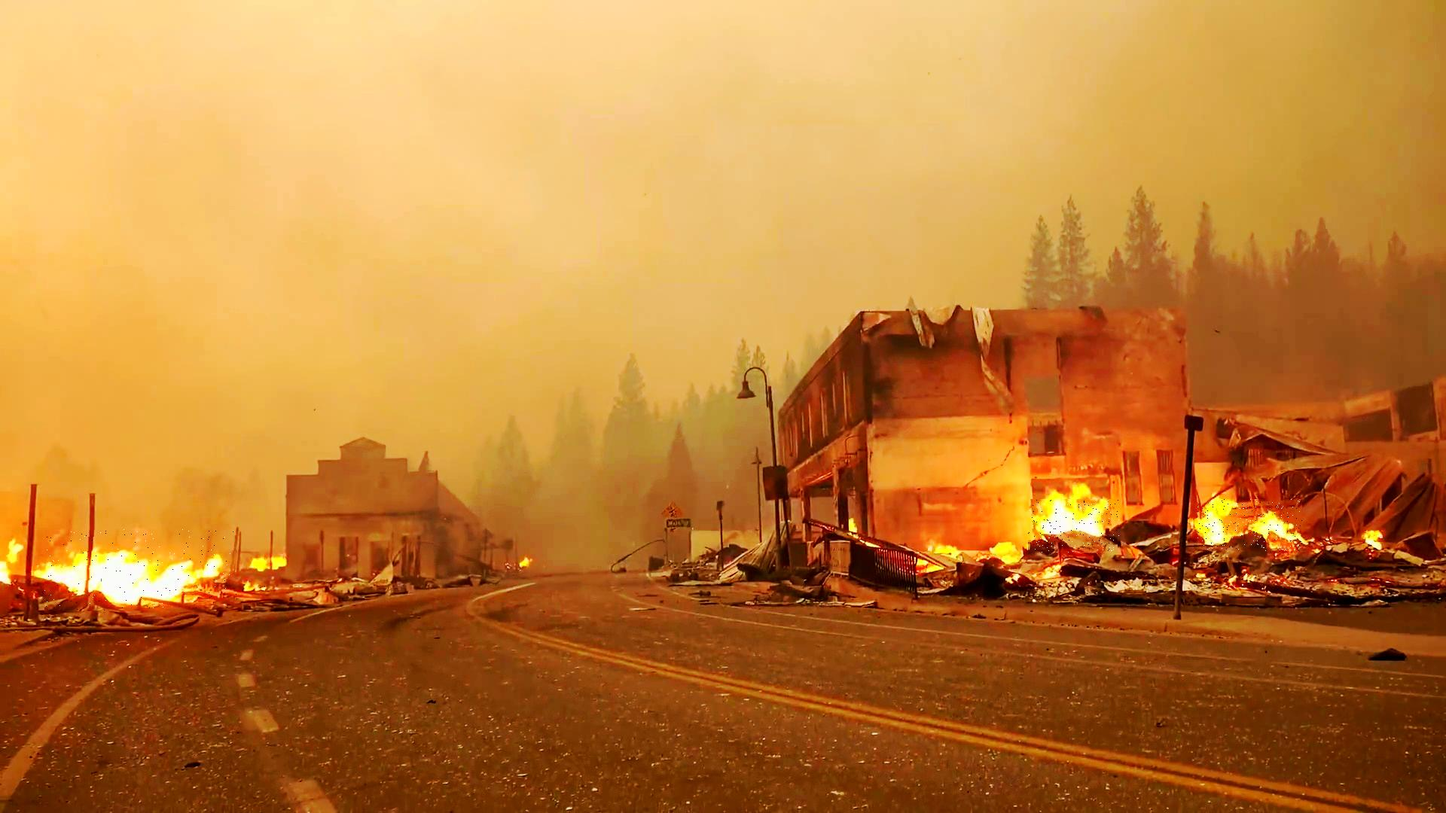fire: (45, 529, 238, 611), (1198, 499, 1302, 551), (1028, 499, 1120, 553)
